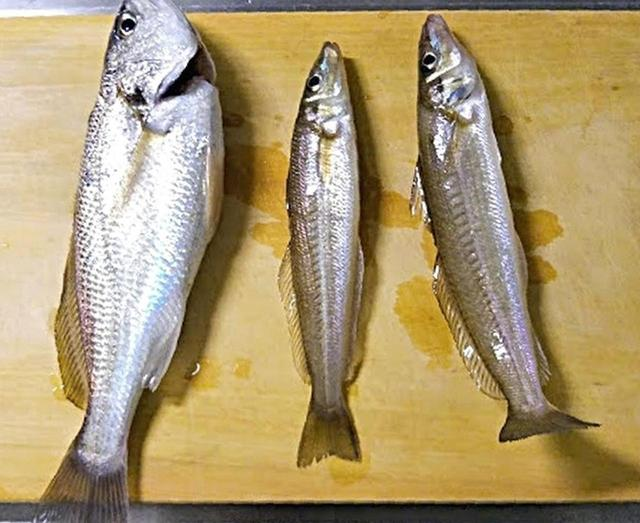kiss: (401, 13, 606, 441), (272, 27, 379, 469)
